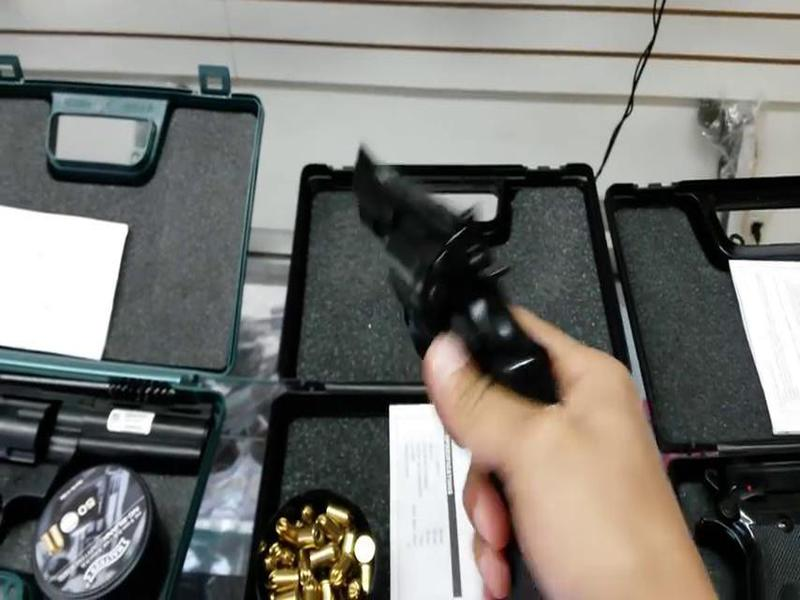Revolver: (347, 143, 563, 438)
